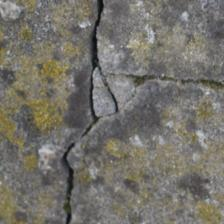Crack: (61, 122, 96, 223), (86, 70, 126, 123), (86, 4, 110, 71)
